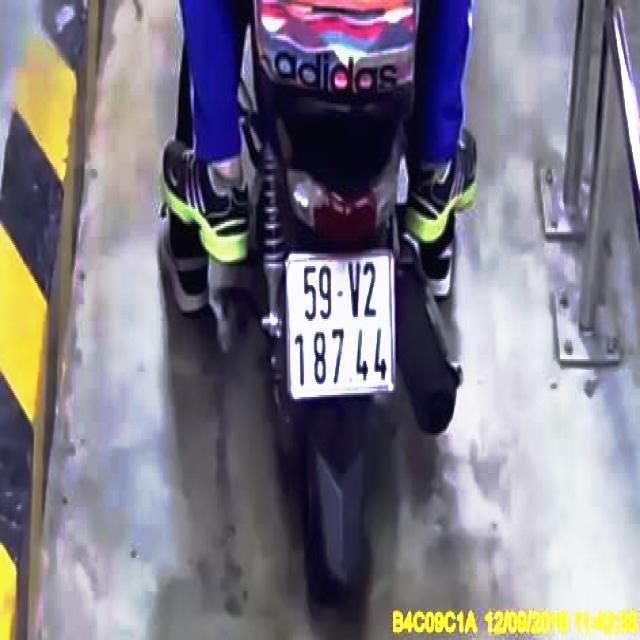license_plate: (290, 256, 395, 398)
